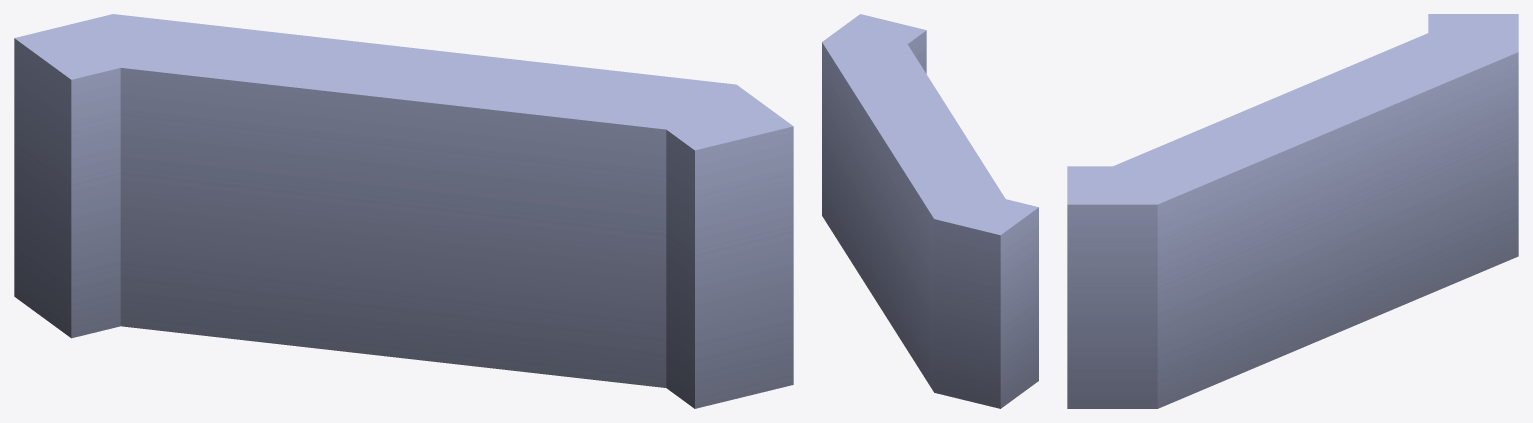
Rendered from wall-diagonal-low.fbx.
3 renders of one model, left to right at view 1: azimuth 30°, elevation 25°; view 2: azimuth 150°, elevation 25°; view 3: azimuth 270°, elevation 25°, orthographic. The views are drawn at different scales.
Visible parts, largest first — view 1: wall-diagonal-low; view 2: wall-diagonal-low; view 3: wall-diagonal-low.
Boxes of the visible parts, <box> form: wall-diagonal-low: <box>14,14,793,408</box>; wall-diagonal-low: <box>822,14,1038,408</box>; wall-diagonal-low: <box>1067,14,1518,408</box>.
Size of the model in its own units: 100 by 50 by 100.
